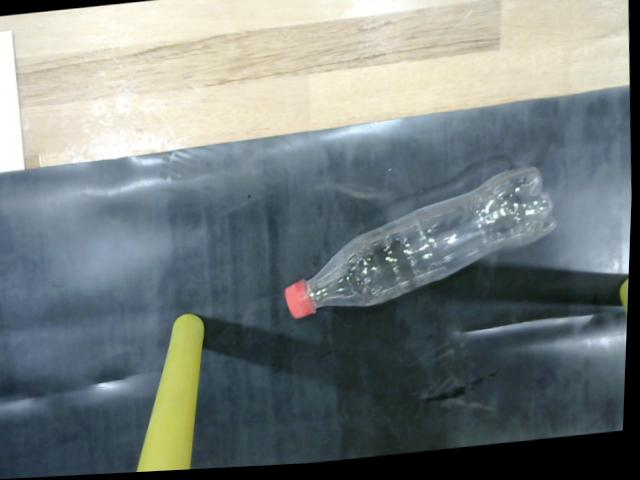bottle: (280, 162, 570, 328)
